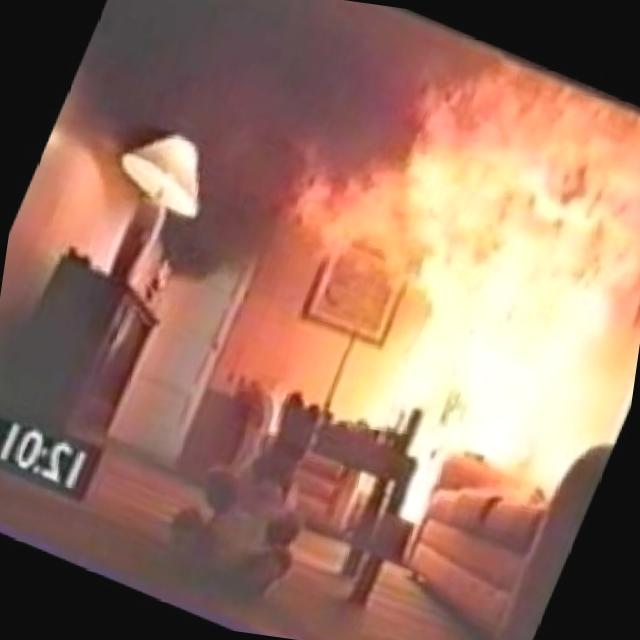fire: (187, 0, 640, 607)
